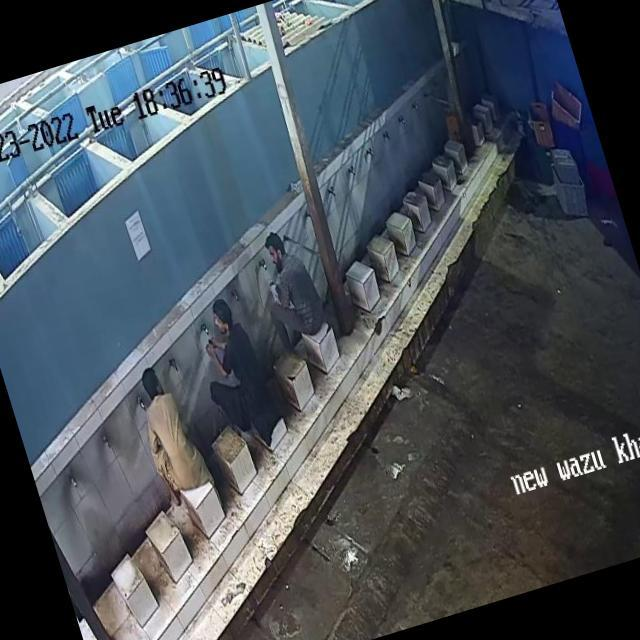person: (188, 294, 291, 448), (246, 220, 336, 354), (126, 357, 210, 498)
